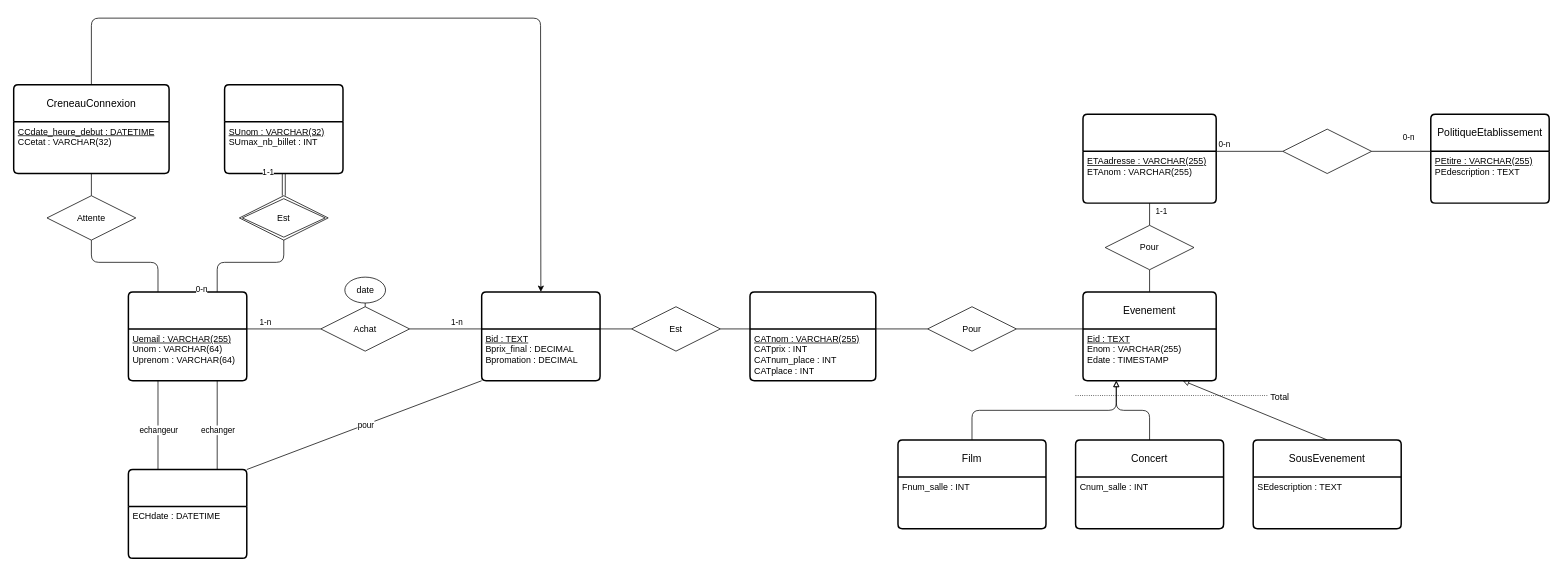
Image size: 1562x572. Some labels were removed from this diagram. The shapes that lost their labels are listed below. From the top down, each one's box as (x1, y1, x2, y2) in pixels, then its label:
(223, 84, 343, 174): StatutUtilisateur
(1082, 113, 1217, 204): Etablissement
(1282, 128, 1372, 174): Respecte
(127, 291, 247, 381): Utilisateur
(481, 291, 600, 381): Billet
(749, 291, 876, 381): Categorie
(127, 468, 247, 559): Echange
